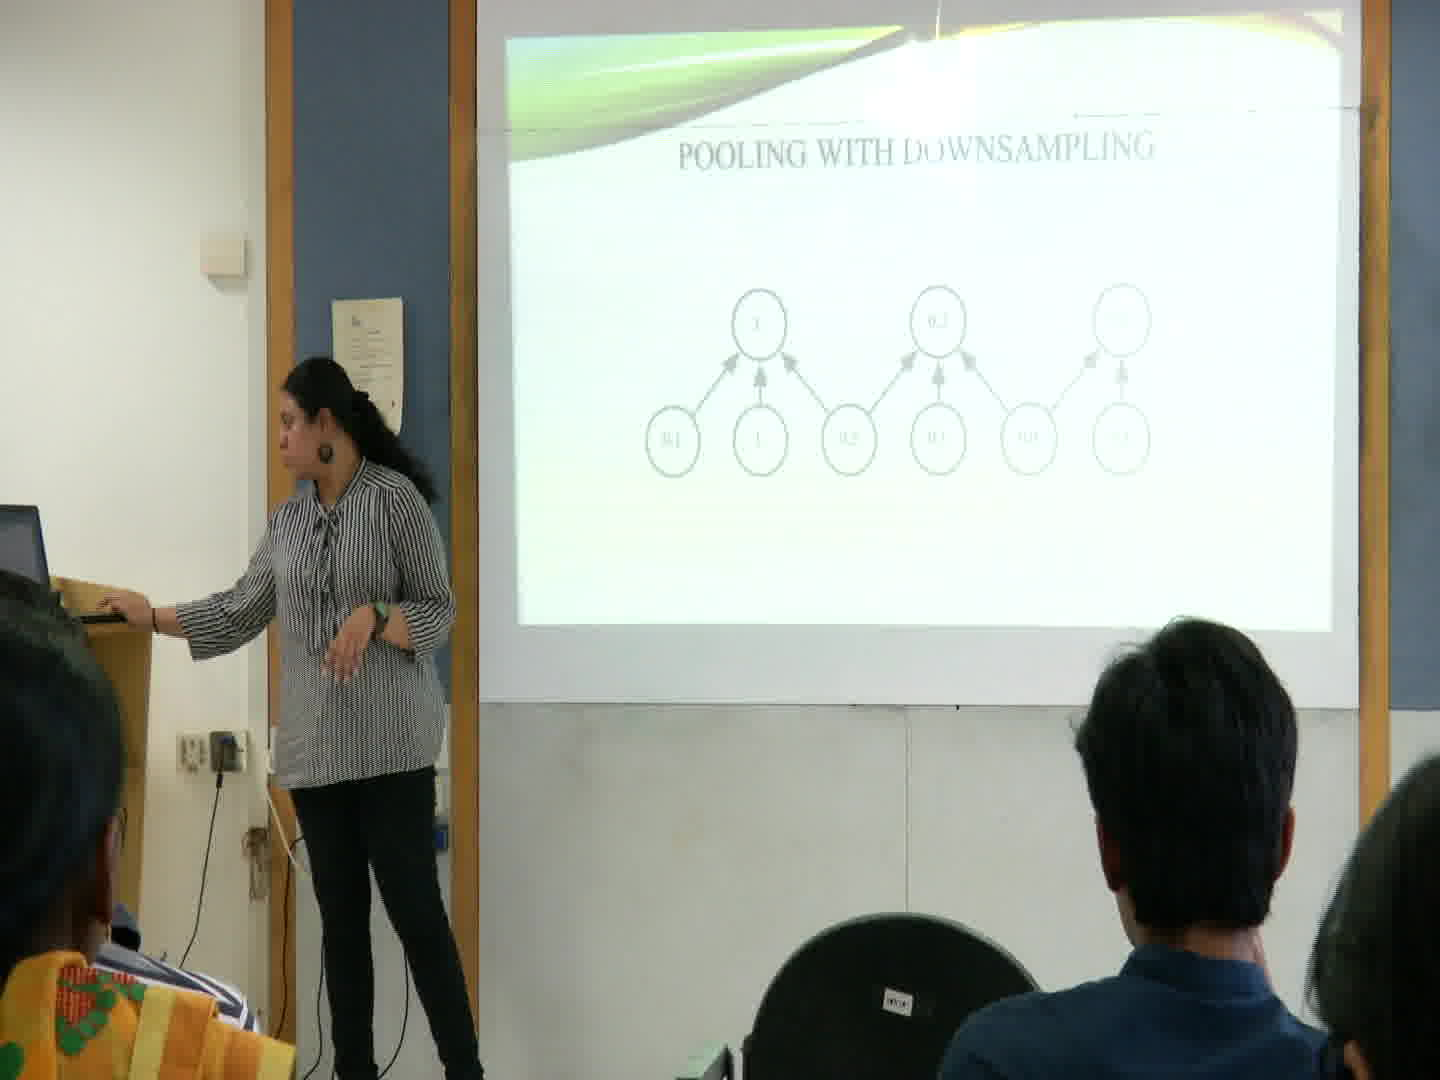slide: (506, 12, 1337, 632)
